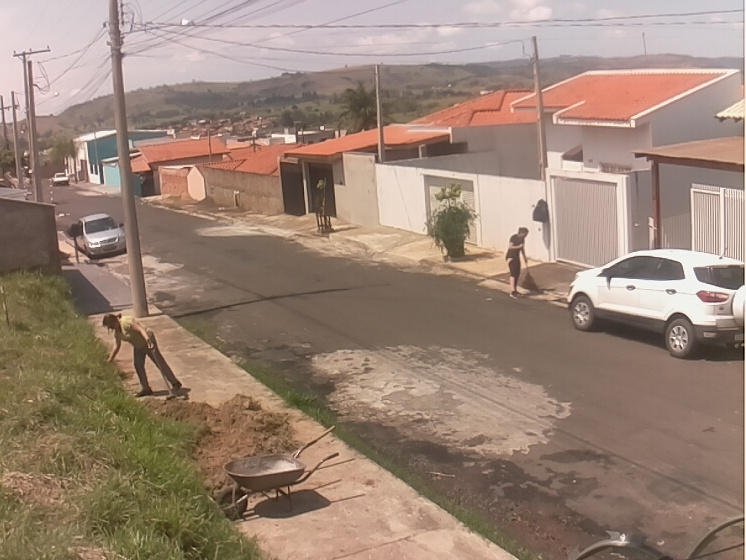person: (102, 312, 184, 401), (505, 226, 531, 301)
